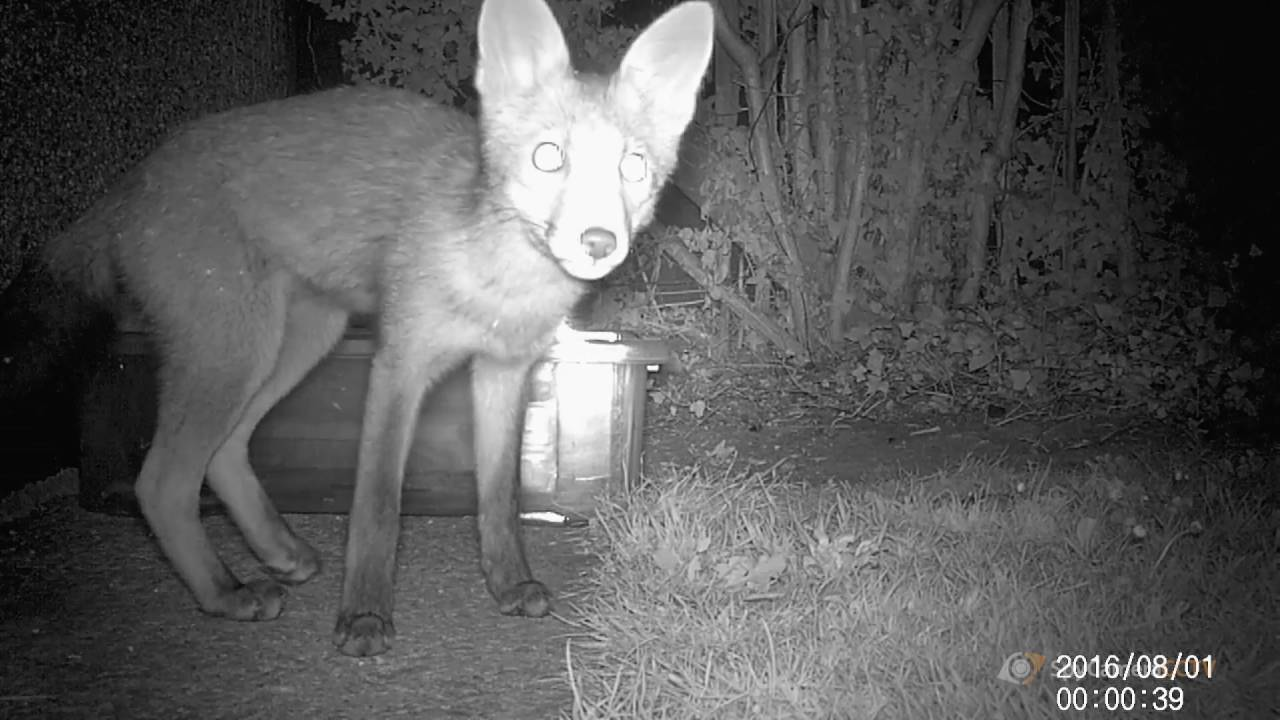fox: (30, 1, 743, 664)
